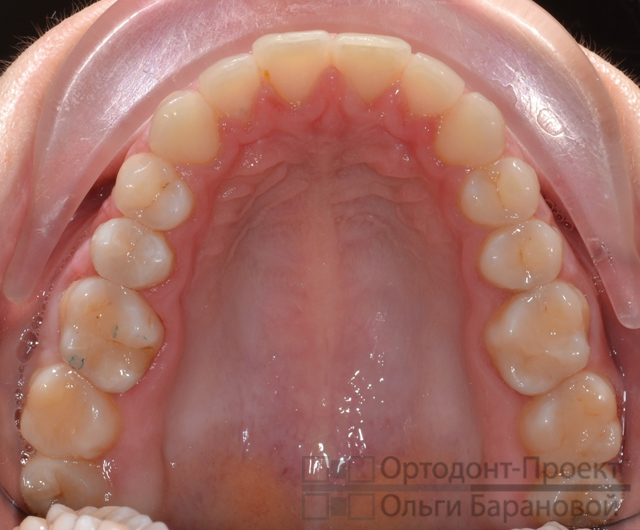UL1BC_healthy: (459, 160, 541, 222)
UL1M_healthy: (488, 293, 591, 379)
UL2BC_healthy: (477, 229, 567, 287)
UL2M_healthy: (524, 389, 621, 455)
ULCI_healthy: (335, 32, 410, 105)
ULC_healthy: (437, 103, 504, 165)
ULLI_healthy: (403, 58, 461, 116)
UR1BC_healthy: (115, 158, 193, 224)
UR1M_healthy: (57, 284, 166, 390)
UR2BC_healthy: (94, 221, 177, 289)
UR2M_healthy: (20, 369, 122, 456)
UR3M_healthy: (20, 459, 107, 502)
URCI_healthy: (258, 32, 331, 100)
URC_healthy: (155, 95, 223, 163)
URLI_healthy: (205, 56, 261, 122)
